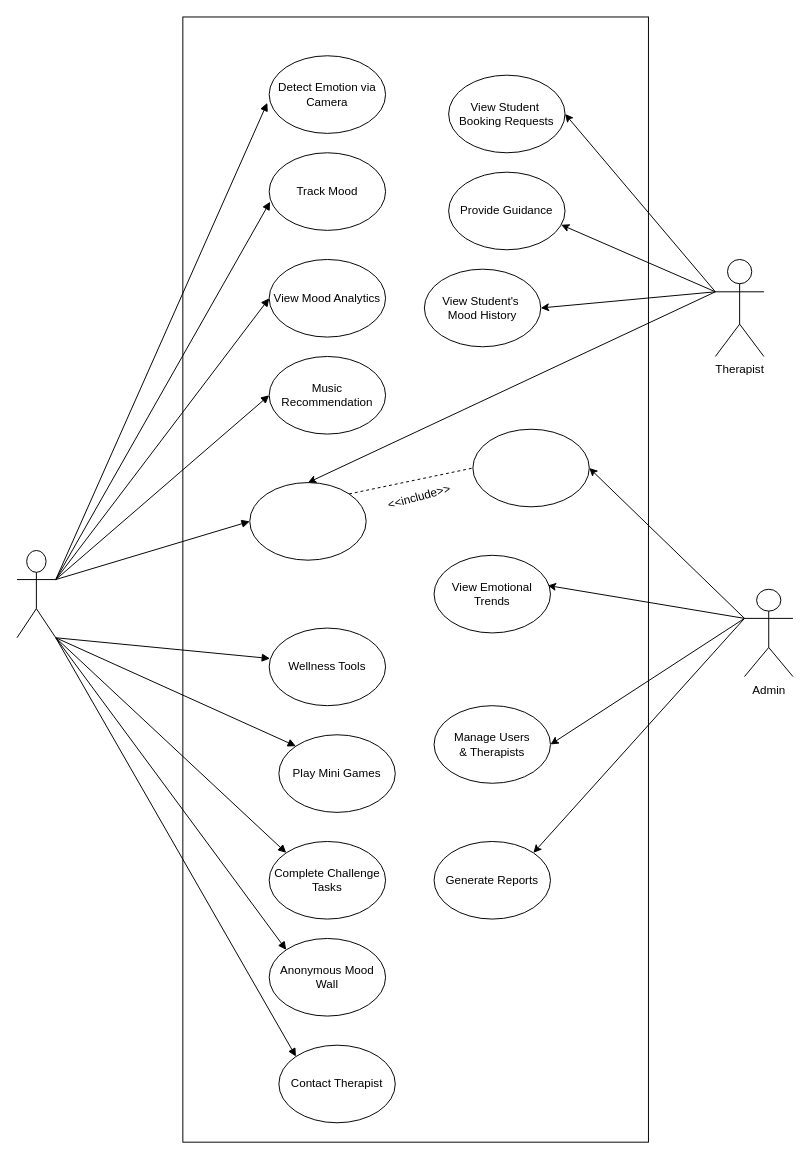
This 810x1159 diagram has some shape labels left out. The centre of each missing label's shape, as x and y in pixels:
"Login" goes at (530,467).
"Register" goes at (307,521).
"Student" goes at (36,594).
